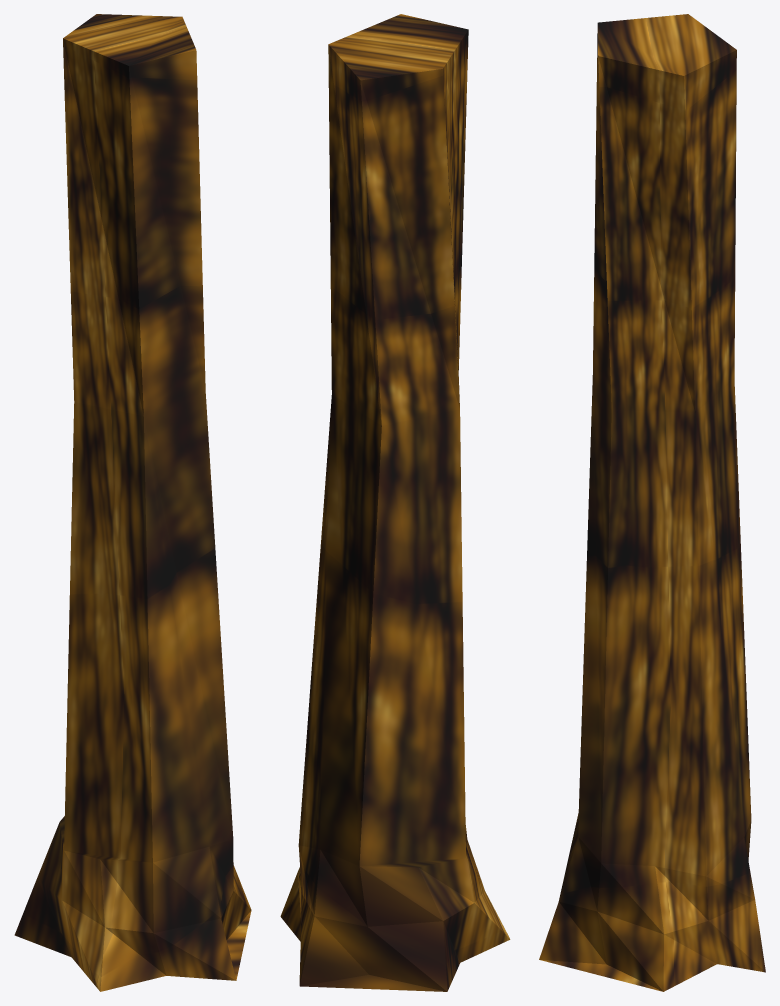
Rendered from MTree_3.gltf.
3 views of the same model, side by side, from view 1: azimuth 30°, elevation 25°; view 2: azimuth 150°, elevation 25°; view 3: azimuth 270°, elevation 25° (orthographic).
Visible parts, largest first — view 1: MTree_3; view 2: MTree_3; view 3: MTree_3.
Part boxes in pixels (box(x1,y1,x2,y2)): MTree_3: box(14, 14, 251, 991); MTree_3: box(280, 14, 510, 991); MTree_3: box(539, 14, 765, 991).
Size of the model in its own units: 4.88 by 21.2 by 4.8.
Materials: 1 (1 with a texture image).
